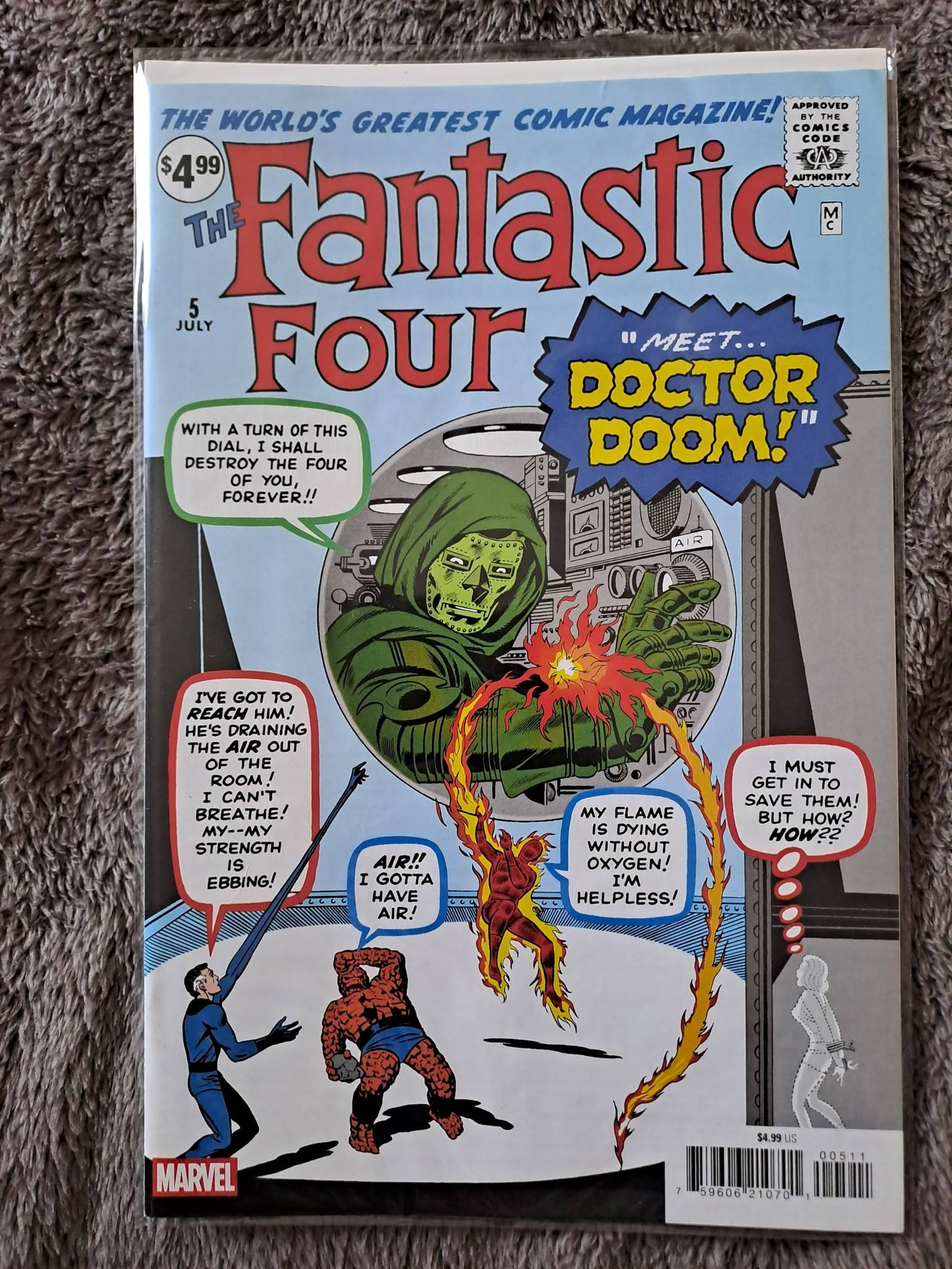comic: (135, 48, 906, 1238)
